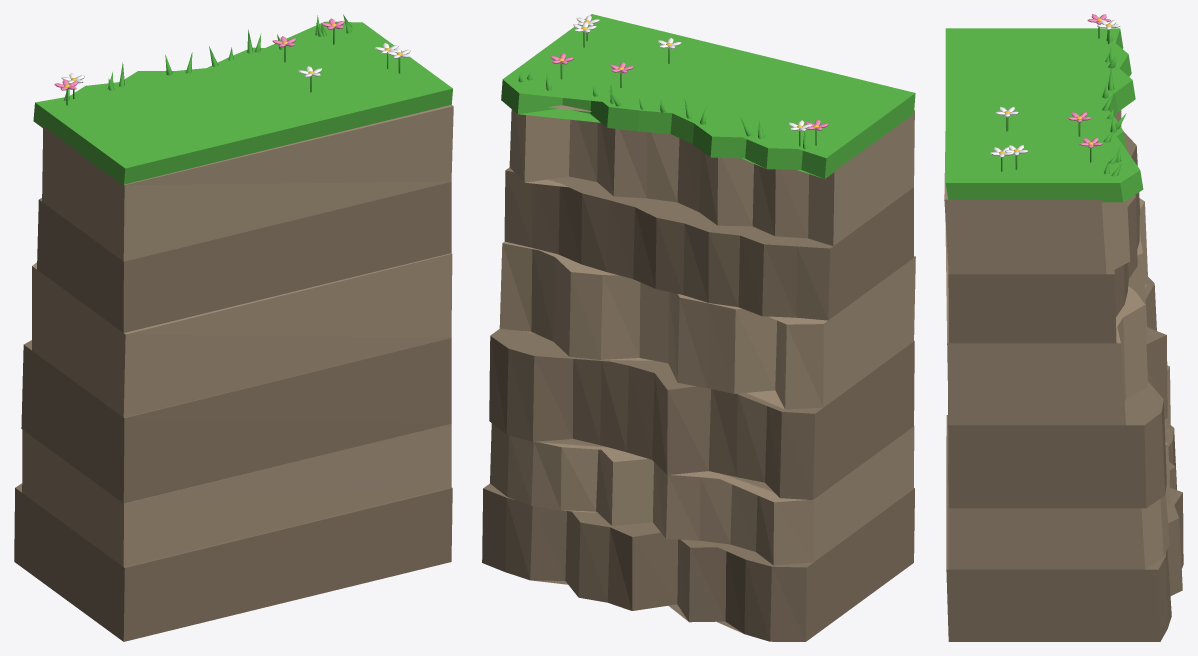
Rendered from Cliff_Meadow.glb.
The picture shows the model from 3 angles, left to right: view 1: azimuth 30°, elevation 25°; view 2: azimuth 150°, elevation 25°; view 3: azimuth 270°, elevation 25°; orthographic projection. The views are drawn at different scales.
Parts seen in each view (by area): view 1: Rock, RockLight, Grass, GrassBlades; view 2: Rock, RockLight, Grass, GrassBlades; view 3: Rock, RockLight, Grass, GrassBlades, PetalsWhite, PetalsPink.
Part boxes in pixels (left/top/right/bottom): Rock: left=14, top=181, right=452, bottom=641; RockLight: left=22, top=104, right=453, bottom=566; Grass: left=33, top=21, right=452, bottom=186; GrassBlades: left=63, top=14, right=400, bottom=105; Rock: left=482, top=167, right=914, bottom=641; RockLight: left=490, top=105, right=915, bottom=565; Grass: left=501, top=14, right=915, bottom=178; GrassBlades: left=518, top=32, right=816, bottom=149; Rock: left=946, top=132, right=1183, bottom=641; RockLight: left=944, top=110, right=1170, bottom=569; Grass: left=945, top=28, right=1143, bottom=202; GrassBlades: left=1001, top=27, right=1126, bottom=176; PetalsWhite: left=990, top=19, right=1120, bottom=157; PetalsPink: left=1067, top=14, right=1110, bottom=148.
Bounding box in the file's own units: 24 × 34.7 × 15.68.
